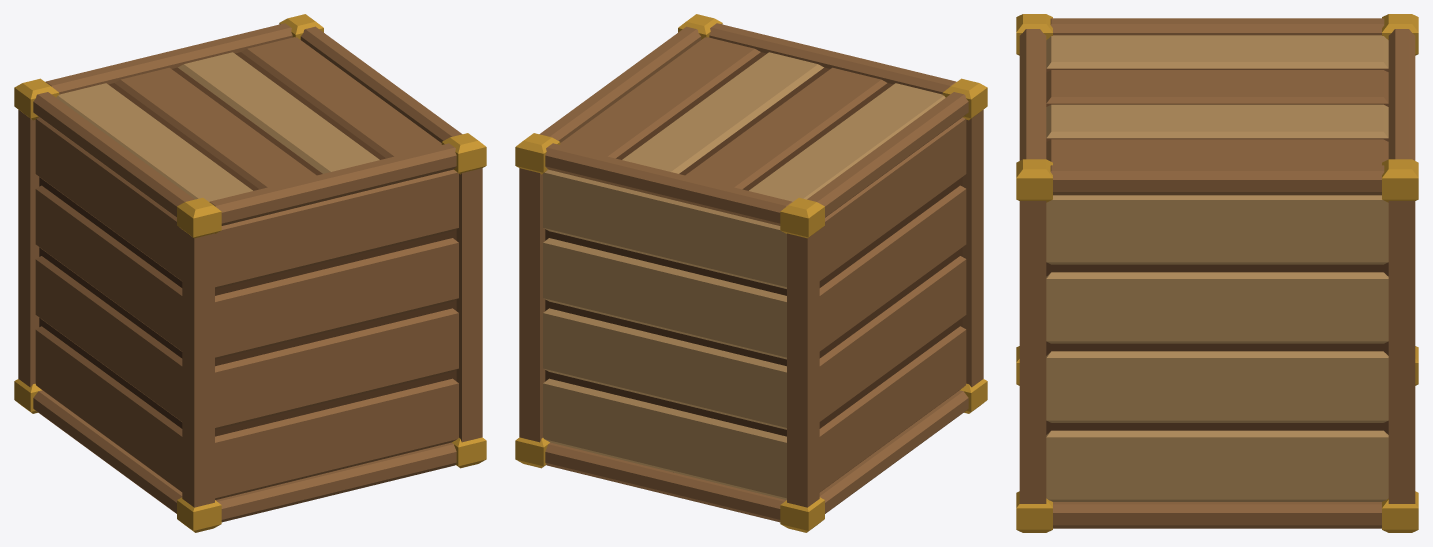
The model's file is Crate_08.glb.
3 views of the same model, side by side, from view 1: azimuth 30°, elevation 25°; view 2: azimuth 150°, elevation 25°; view 3: azimuth 270°, elevation 25° (orthographic). The views are drawn at different scales.
Parts seen in each view (by area): view 1: Crate_08; view 2: Crate_08; view 3: Crate_08.
Part boxes in pixels (box(x1,y1,x2,y2)): Crate_08: box(14, 14, 486, 532); Crate_08: box(515, 14, 987, 532); Crate_08: box(1016, 14, 1418, 532).
Size of the model in its own units: 2.27 by 2.39 by 2.4.
